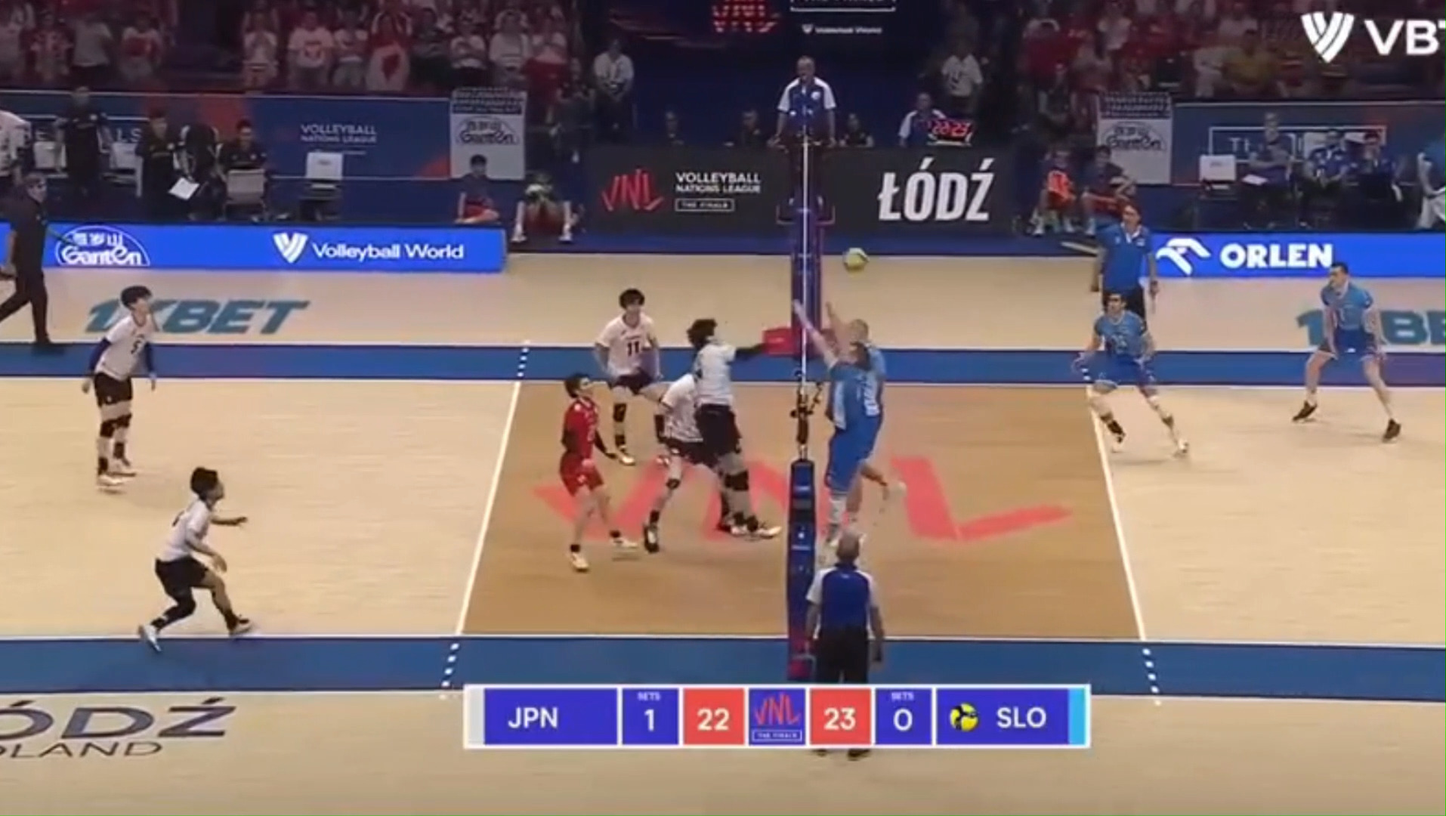ball: (842, 247, 869, 272)
player: (1292, 262, 1401, 440), (1077, 293, 1188, 455), (827, 306, 905, 521), (805, 324, 863, 542)
player 1: (137, 468, 251, 651), (687, 318, 777, 538), (558, 373, 634, 572), (82, 285, 156, 488), (643, 374, 721, 552), (594, 288, 666, 465)
referee: (805, 532, 885, 683), (772, 56, 836, 225), (0, 174, 57, 351), (1092, 203, 1157, 323)
